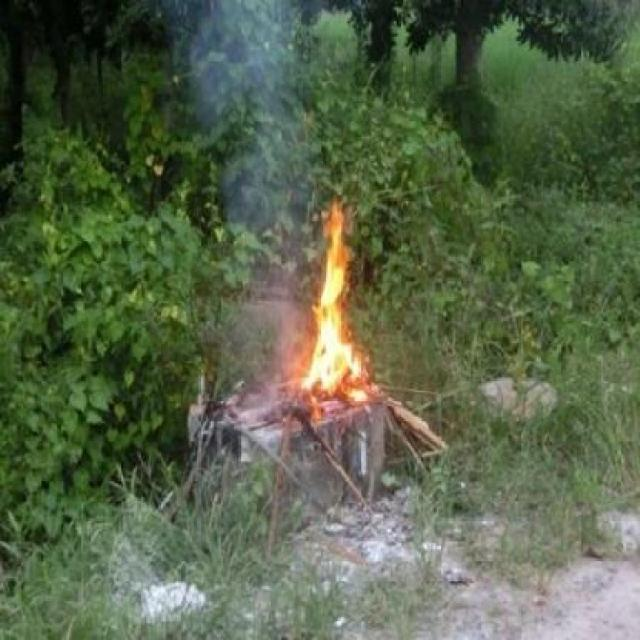Smoke: (299, 187, 369, 416)
